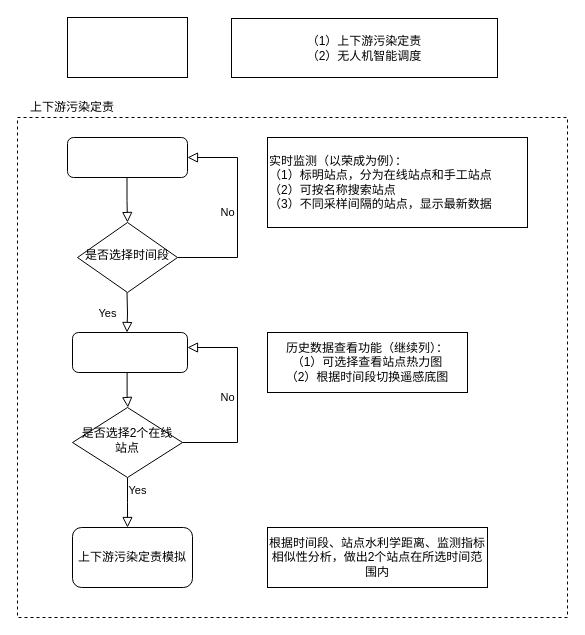
Some shapes in this 585 by 635 pixel diagram are drawn without their labels. Each missing label, with the centre of its shape:
人工智能应用于生态监管决策应用场景: the point at 127,47
历史数据查看模式: the point at 130,352
开始：实时监测模式: the point at 127,157
